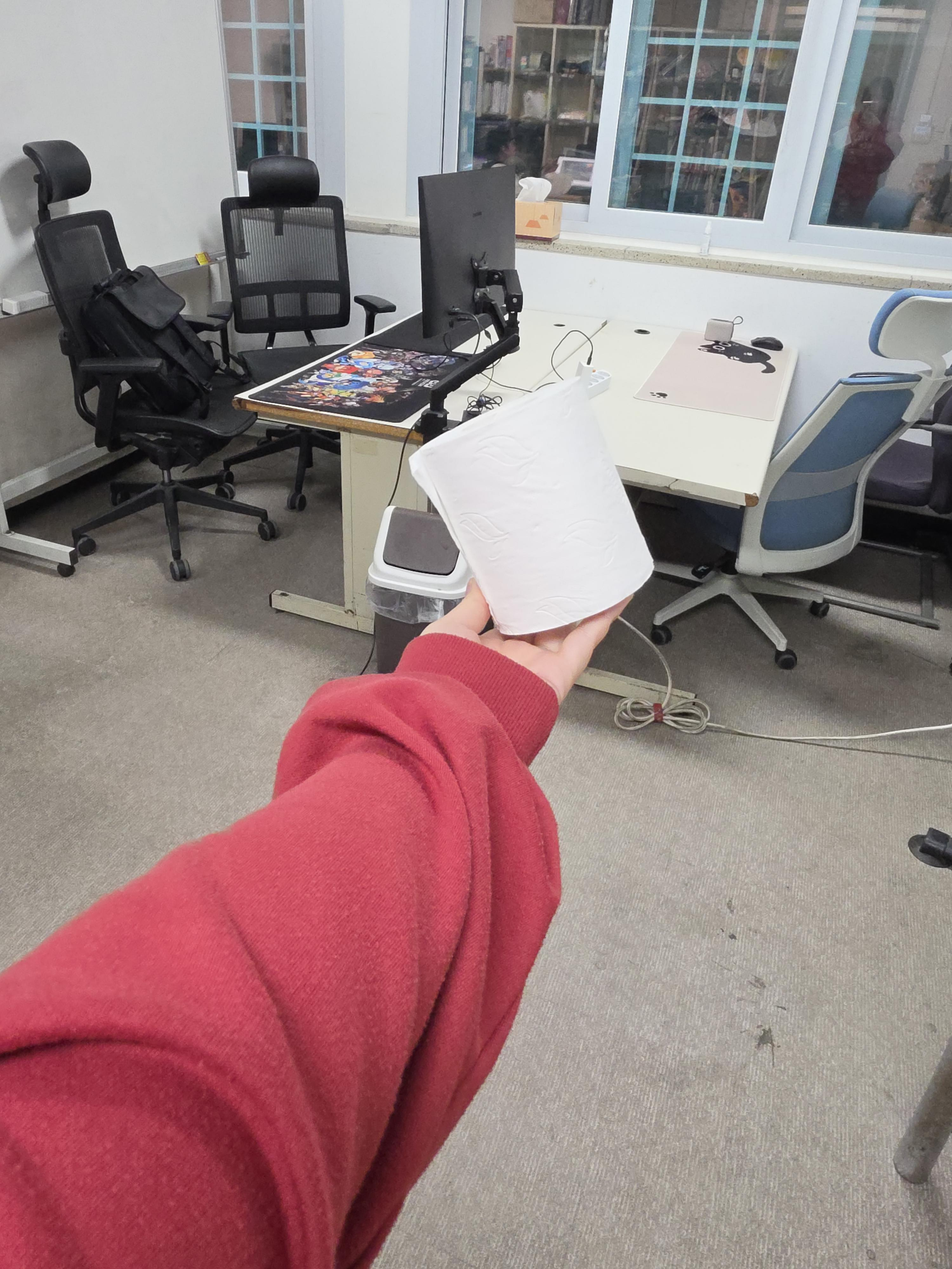tissue: (408, 373, 654, 637), (515, 176, 562, 242)
